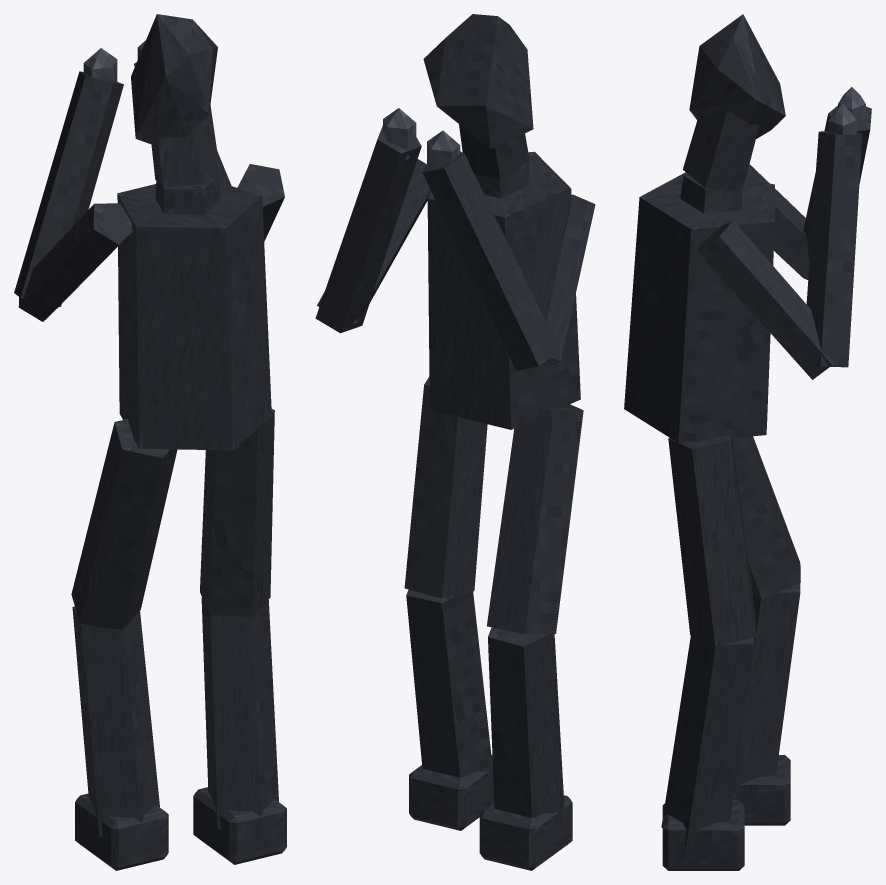
Rendered from f_glassedbody_2.glb.
3 views of the same model, side by side, from view 1: azimuth 30°, elevation 25°; view 2: azimuth 150°, elevation 25°; view 3: azimuth 270°, elevation 25° (orthographic). The views are drawn at different scales.
Parts seen in each view (by area): view 1: block_angular-torso-1, block_faceted-glass-leg-1 (×2), block_faceted-glass-leg-2 (×2), block_solid-glass-foot (×2), block_angular-glass-arm-2, block_angular-black-glass-head, block_angular-glass-arm-1 (×2), block_vitrified-neck-2, block_vitrified-neck-1, block_glass-hand; view 2: block_faceted-glass-leg-2 (×2), block_faceted-glass-leg-1 (×2), block_angular-torso-1, block_angular-glass-arm-2 (×2), block_angular-black-glass-head, block_solid-glass-foot (×2), block_angular-glass-arm-1 (×2), block_vitrified-neck-2, block_glass-hand (×2), block_vitrified-neck-1; view 3: block_angular-torso-1, block_faceted-glass-leg-1 (×2), block_faceted-glass-leg-2 (×2), block_angular-glass-arm-2 (×2), block_angular-glass-arm-1 (×2), block_angular-black-glass-head, block_solid-glass-foot (×2), block_vitrified-neck-2, block_vitrified-neck-1, block_glass-hand (×2).
Part boxes in pixels (x1,y1,x2,y2): block_angular-torso-1: [117, 182, 271, 450]; block_faceted-glass-leg-1 (×2): [72, 597, 278, 836]; block_faceted-glass-leg-2 (×2): [71, 409, 274, 629]; block_solid-glass-foot (×2): [75, 787, 286, 870]; block_angular-glass-arm-2: [14, 71, 123, 306]; block_angular-black-glass-head: [131, 14, 217, 145]; block_angular-glass-arm-1 (×2): [18, 164, 284, 321]; block_vitrified-neck-2: [151, 105, 220, 187]; block_vitrified-neck-1: [155, 175, 221, 214]; block_glass-hand: [83, 48, 117, 82]; block_faceted-glass-leg-2 (×2): [404, 377, 583, 634]; block_faceted-glass-leg-1 (×2): [406, 589, 565, 826]; block_angular-torso-1: [427, 151, 580, 429]; block_angular-glass-arm-2 (×2): [315, 125, 559, 370]; block_angular-black-glass-head: [423, 14, 533, 149]; block_solid-glass-foot (×2): [409, 755, 572, 870]; block_angular-glass-arm-1 (×2): [317, 159, 595, 366]; block_vitrified-neck-2: [459, 124, 529, 179]; block_glass-hand (×2): [383, 108, 460, 168]; block_vitrified-neck-1: [474, 162, 530, 198]; block_angular-torso-1: [624, 172, 774, 443]; block_faceted-glass-leg-1 (×2): [661, 583, 800, 845]; block_faceted-glass-leg-2 (×2): [668, 434, 800, 646]; block_angular-glass-arm-2 (×2): [803, 105, 871, 367]; block_angular-glass-arm-1 (×2): [698, 164, 834, 379]; block_angular-black-glass-head: [689, 14, 785, 138]; block_solid-glass-foot (×2): [662, 755, 790, 870]; block_vitrified-neck-2: [683, 110, 759, 191]; block_vitrified-neck-1: [680, 173, 741, 213]; block_glass-hand (×2): [828, 87, 865, 134].
Bounding box in the file's own units: 0.5234 × 1.74 × 0.4807.
Materials: 1 (1 with a texture image).
